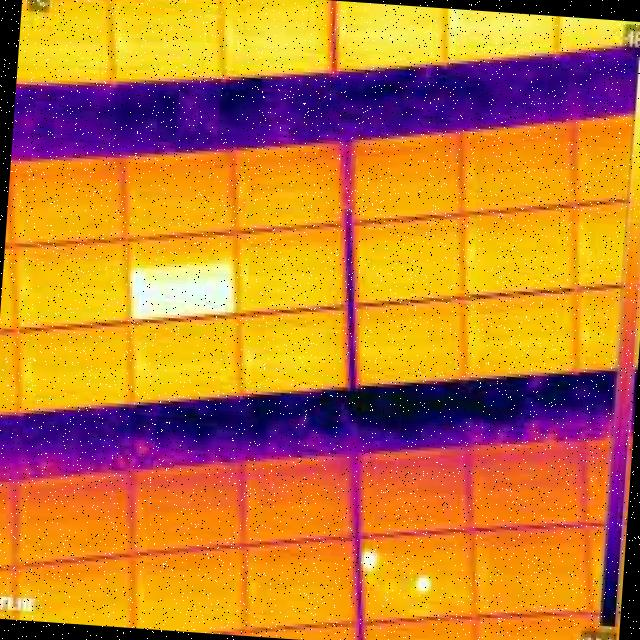Hotspot: (122, 248, 248, 332), (356, 526, 386, 578), (408, 564, 438, 600)
